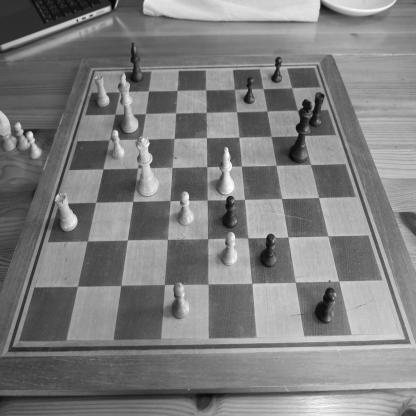black-bishop: (130, 42, 144, 83)
black-king: (288, 98, 313, 164)
black-pawn: (314, 287, 337, 324), (260, 233, 277, 268), (222, 195, 238, 229), (243, 76, 255, 105), (272, 56, 282, 84)
black-rook: (309, 91, 325, 128)
white-bishop: (216, 146, 235, 196)
white-king: (117, 72, 139, 134)
white-pawn: (171, 282, 190, 320), (220, 231, 238, 267), (177, 191, 194, 227), (25, 130, 43, 161), (13, 122, 31, 152), (110, 130, 124, 160)
white-queen: (135, 136, 159, 198)
white-rook: (54, 192, 79, 232), (94, 74, 110, 108)
